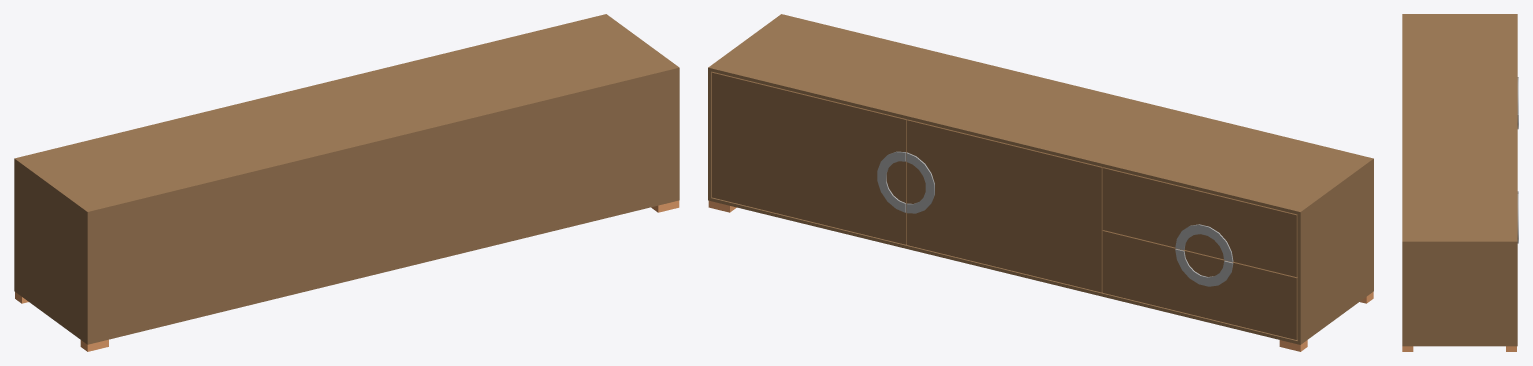
Rendered from tv_table_1.FBX.
3 renders of one model, left to right at view 1: azimuth 30°, elevation 25°; view 2: azimuth 150°, elevation 25°; view 3: azimuth 270°, elevation 25°, orthographic. The views are drawn at different scales.
Parts seen in each view (by area): view 1: tv_table_1; view 2: tv_table_1; view 3: tv_table_1.
Boxes of the visible parts, <box> form: tv_table_1: <box>14,14,679,351</box>; tv_table_1: <box>708,14,1373,351</box>; tv_table_1: <box>1402,14,1518,351</box>.
Bounding box in the file's own units: 1.4 × 0.3165 × 0.3031.
